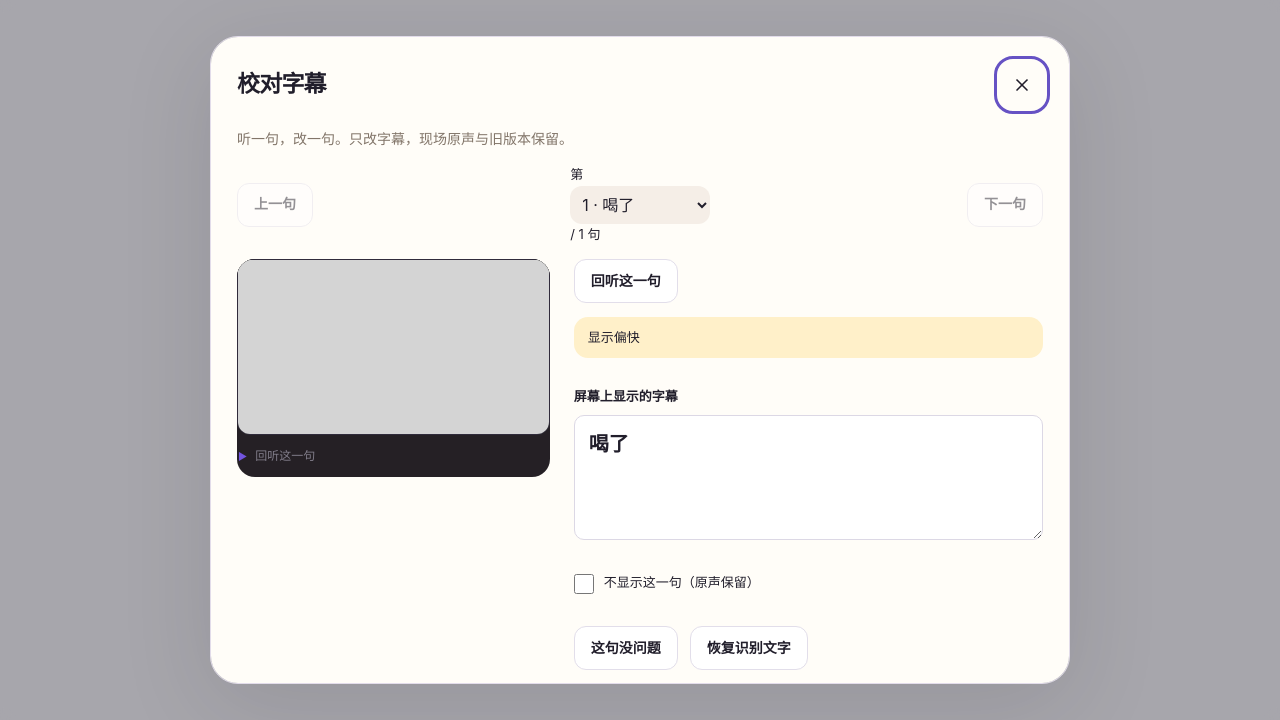
Test: keeps an explicit correction after failed save and never changes the original version
Replace the text in the text box labelled "屏幕上显示的字幕" with "不喝了！" at (808, 477), box [574, 415, 1043, 540]
(page scrolled)
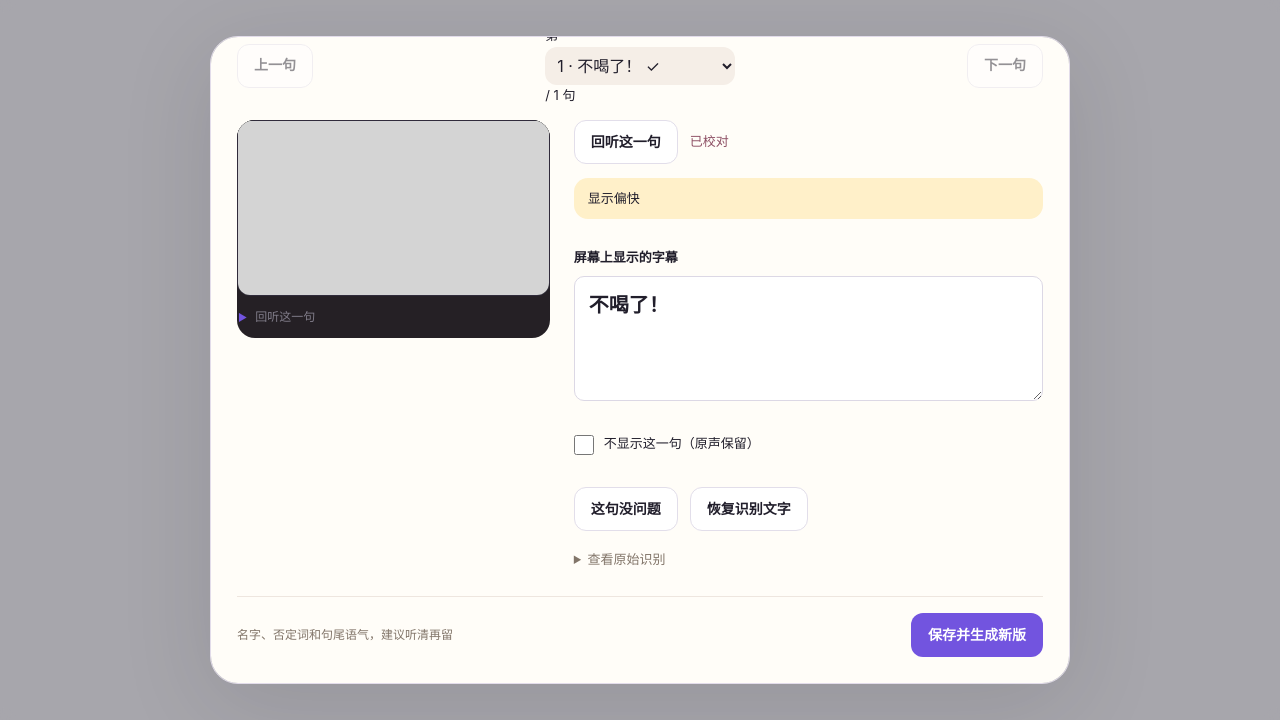
Click the button "保存并生成新版".
click(977, 635)  # box [911, 613, 1043, 657]
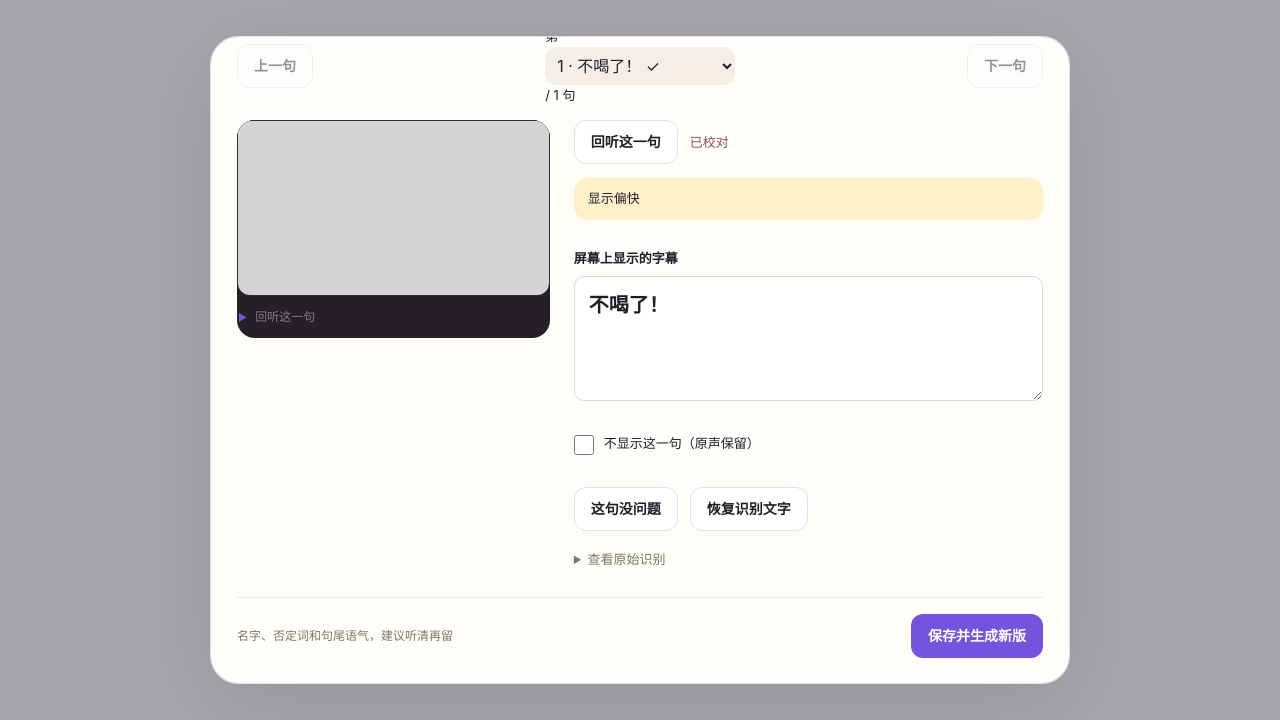
Click the button "恢复识别文字".
click(749, 509)  # box [690, 487, 808, 531]
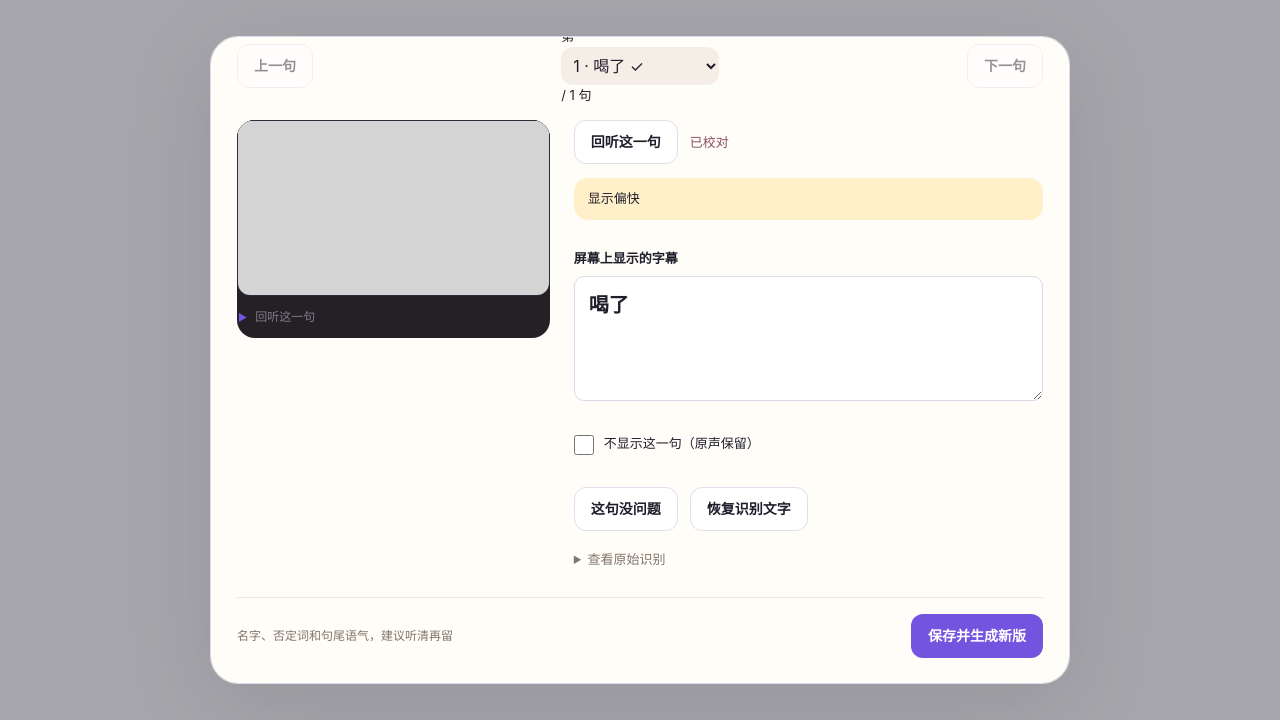
Expected: the text box labelled "屏幕上显示的字幕" holds "喝了", [574, 276, 1043, 401]
